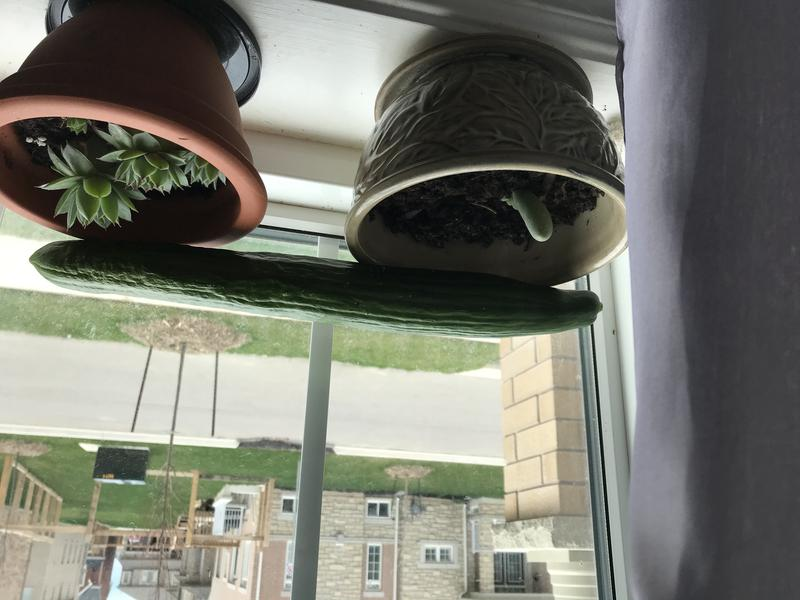cucumber: (24, 231, 613, 354)
